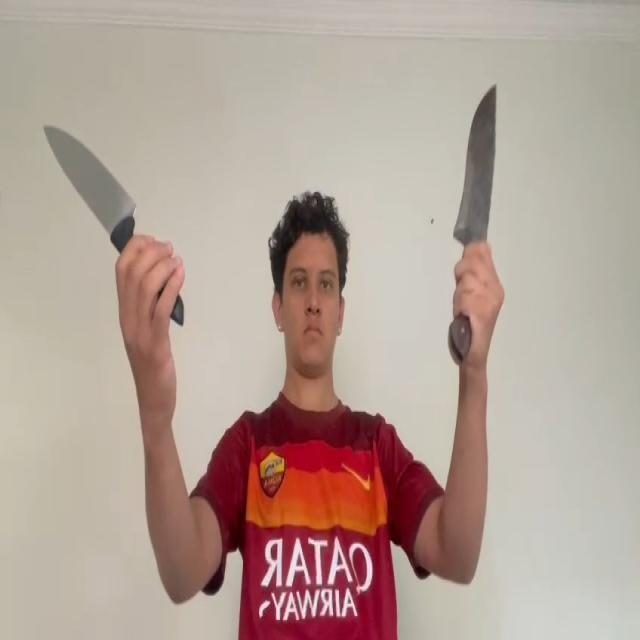knife: (42, 118, 138, 220), (456, 86, 498, 237)
